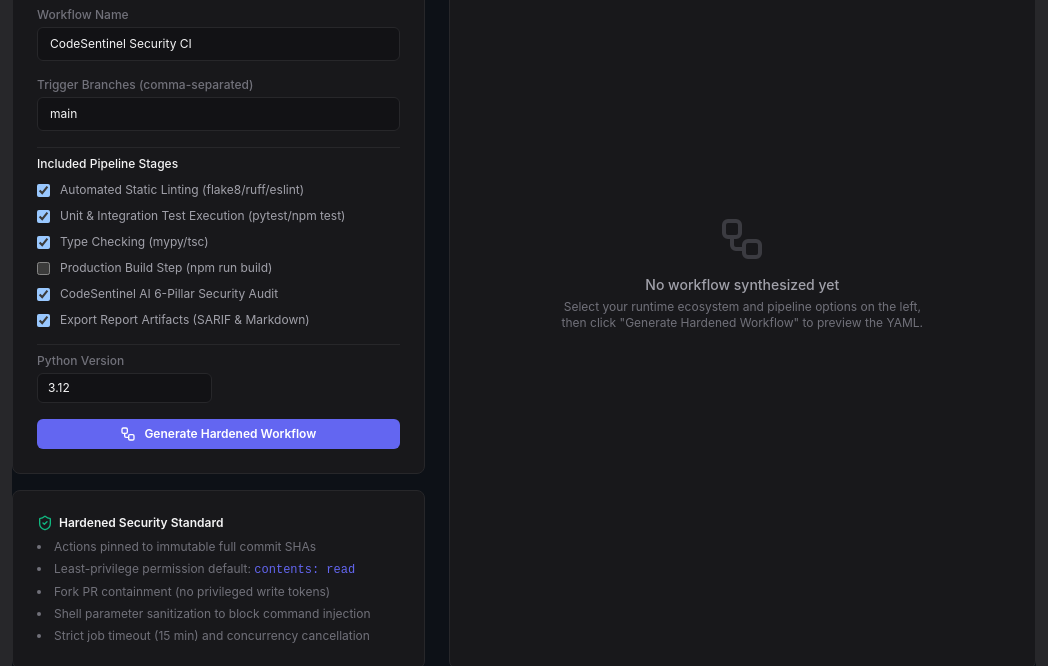
Test: Phase 8 CiCdAuditPage Console › generates and renders hardened GitHub Actions workflow
(page scrolled)
expect the text "Generate Hardened Workflow" is shown: met, box [144, 426, 316, 442]
Click the button "Generate Hardened Workflow": (218, 434) [37, 419, 400, 449]
(page scrolled)
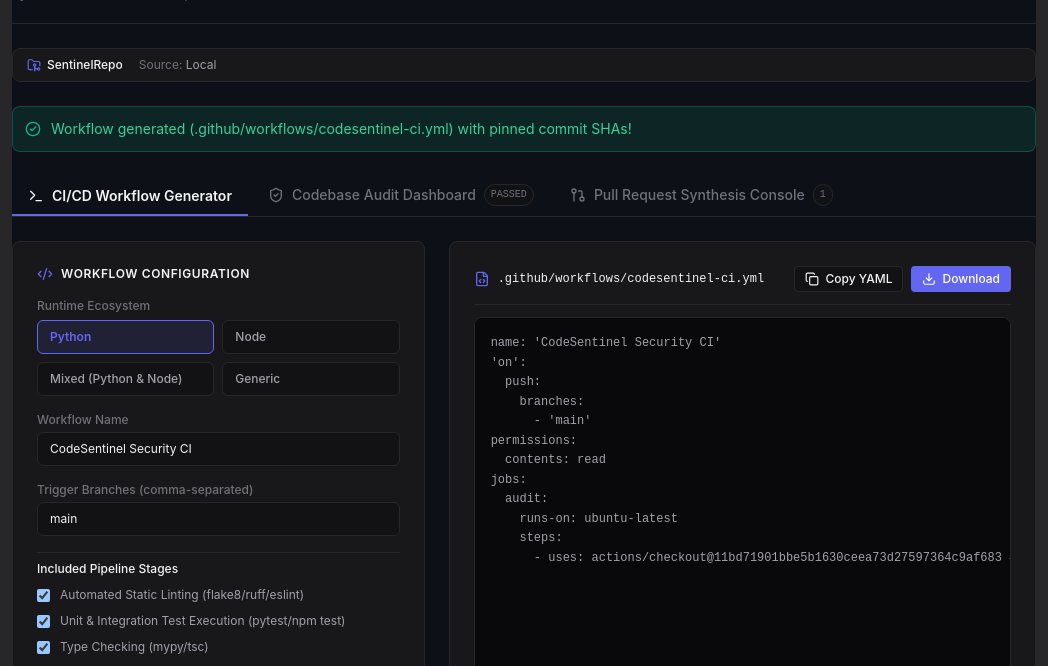
expect the text ".github/workflows/codesentinel-ci.yml" is shown: met, box [498, 271, 764, 287]
expect the text "Copy YAML" is shown: met, box [825, 271, 892, 287]
expect the text "Download" is shown: met, box [942, 271, 1000, 287]
